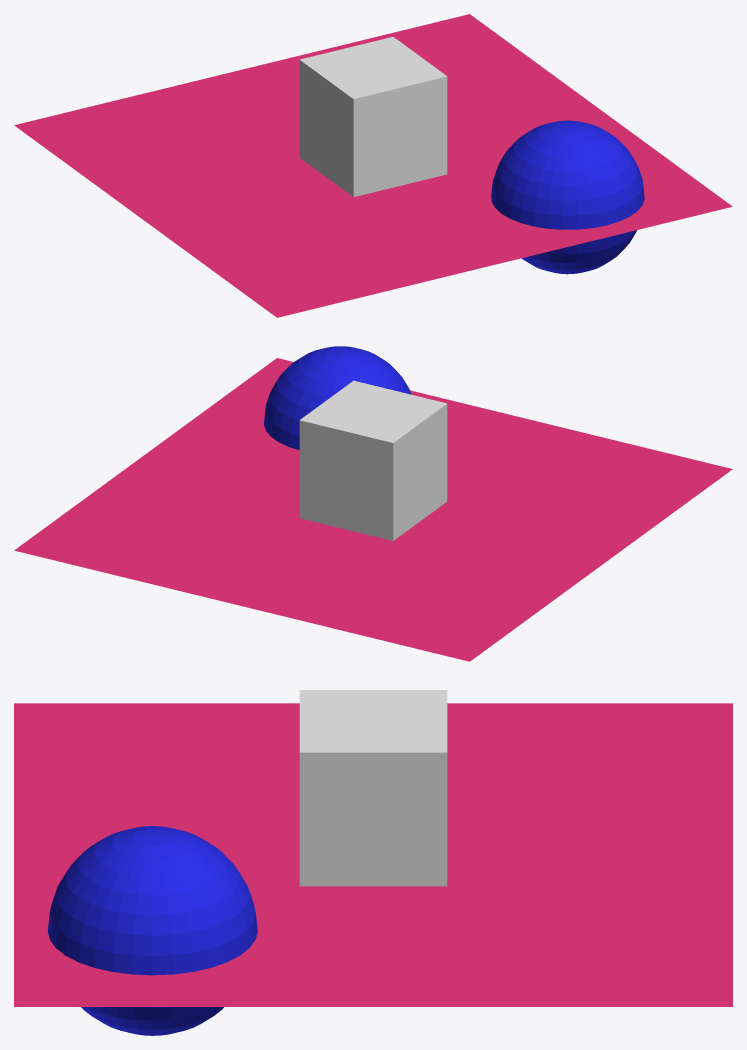
File: tjs.gltf
3 renders of one model, top to bottom at view 1: azimuth 30°, elevation 25°; view 2: azimuth 150°, elevation 25°; view 3: azimuth 270°, elevation 25°, orthographic. The views are drawn at different scales.
Parts seen in each view (by area): view 1: Plane, Cube, Sphere; view 2: Plane, Cube, Sphere; view 3: Plane, Cube, Sphere.
Part boxes in pixels (bbox=[...]): Plane: bbox=[14, 14, 732, 317]; Cube: bbox=[299, 37, 447, 196]; Sphere: bbox=[491, 120, 644, 274]; Plane: bbox=[14, 358, 732, 661]; Cube: bbox=[299, 380, 447, 540]; Sphere: bbox=[264, 346, 411, 450]; Plane: bbox=[14, 703, 732, 1006]; Cube: bbox=[299, 690, 447, 886]; Sphere: bbox=[47, 826, 257, 1035].
Size of the model in its own units: 9.72 by 3.42 by 9.72.
